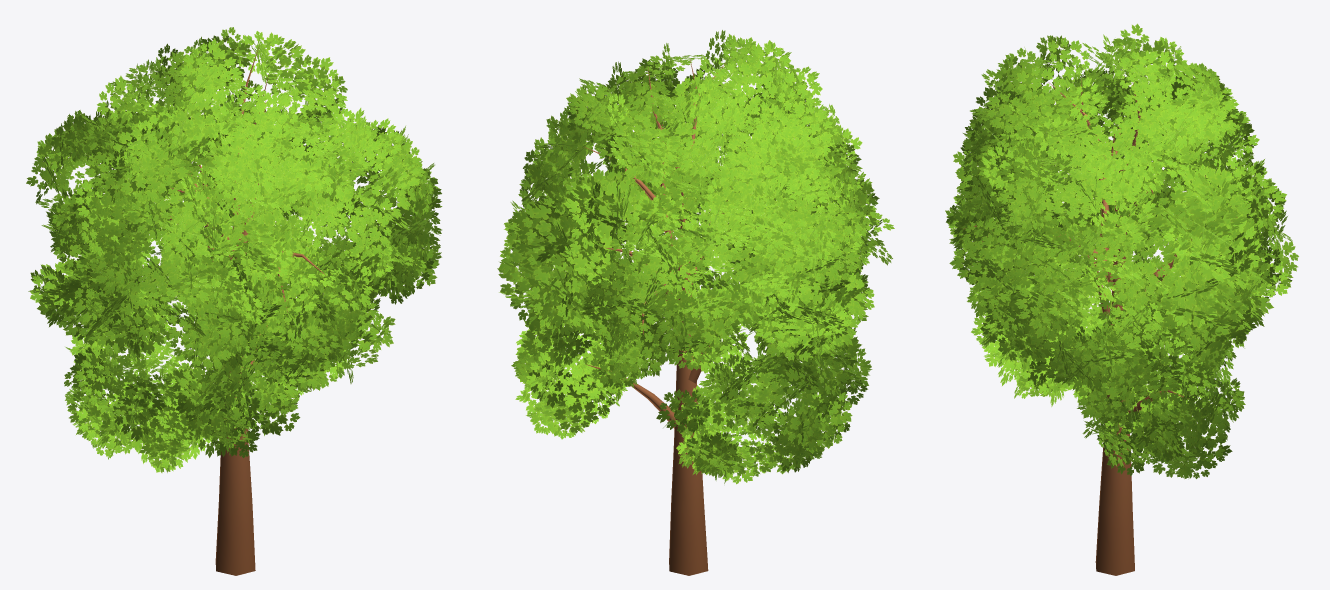
File: tree3_4.fbx
The picture shows the model from 3 angles, left to right: view 1: azimuth 30°, elevation 25°; view 2: azimuth 150°, elevation 25°; view 3: azimuth 270°, elevation 25°; orthographic projection.
Parts seen in each view (by area): view 1: tree3_4; view 2: tree3_4; view 3: tree3_4.
Boxes of the visible parts, x1=… form: tree3_4: x1=26, y1=27, x2=442, y2=575; tree3_4: x1=497, y1=30, x2=894, y2=575; tree3_4: x1=945, y1=23, x2=1298, y2=575.
Size of the model in its own units: 621 by 796 by 531.
